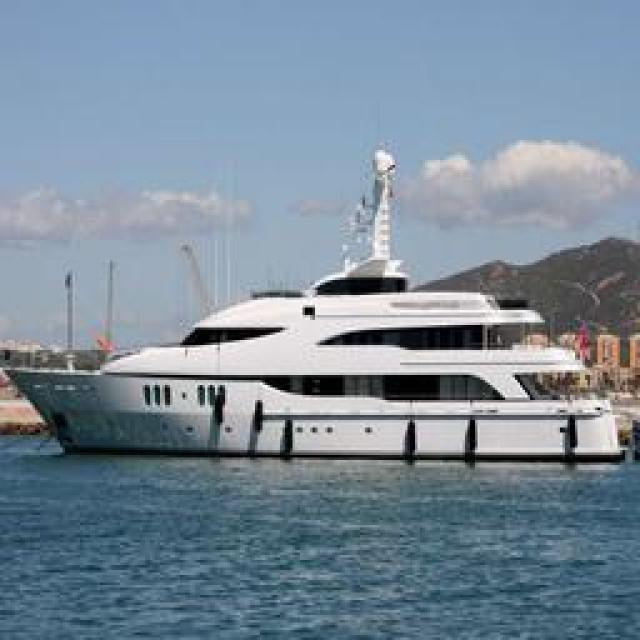CIV_Ship: (9, 234, 634, 456)
